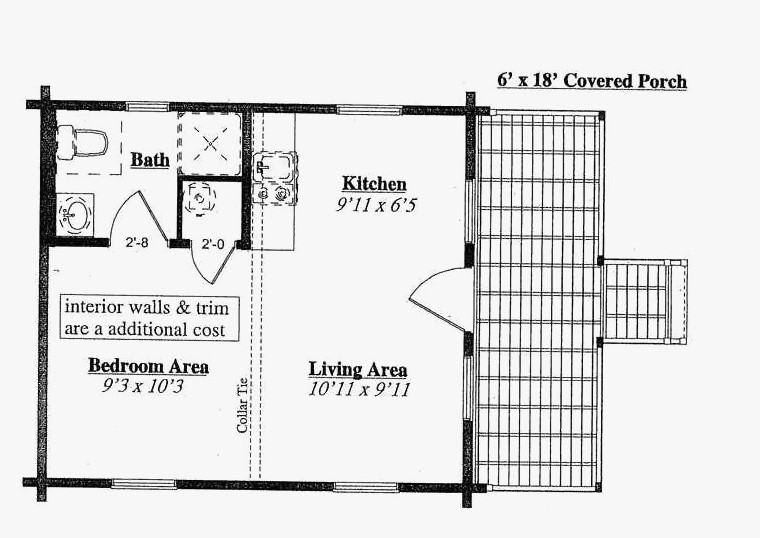wall: (37, 88, 48, 503), (169, 99, 338, 115), (175, 479, 335, 492), (25, 100, 128, 111), (402, 104, 494, 116), (242, 103, 249, 248), (23, 477, 114, 488), (465, 91, 476, 177), (399, 481, 485, 491), (48, 236, 107, 246), (462, 419, 469, 503), (178, 174, 244, 182), (176, 172, 183, 243), (463, 240, 476, 271), (463, 330, 472, 354), (167, 240, 190, 248)
